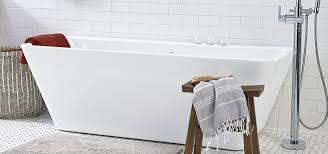bathub: (22, 32, 296, 146)
